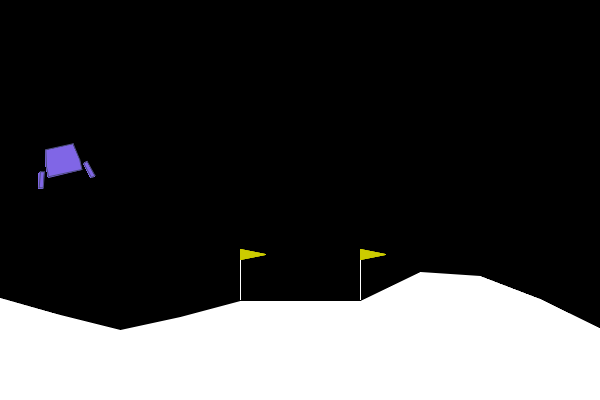lander: (29, 139, 96, 191)
